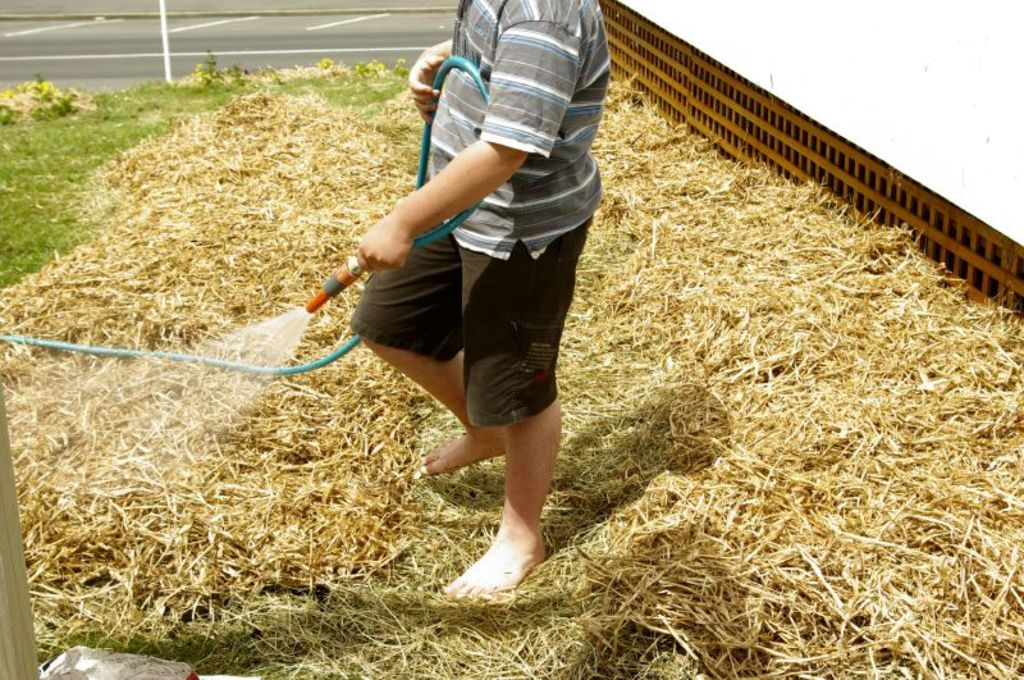Person: (348, 0, 610, 599)
